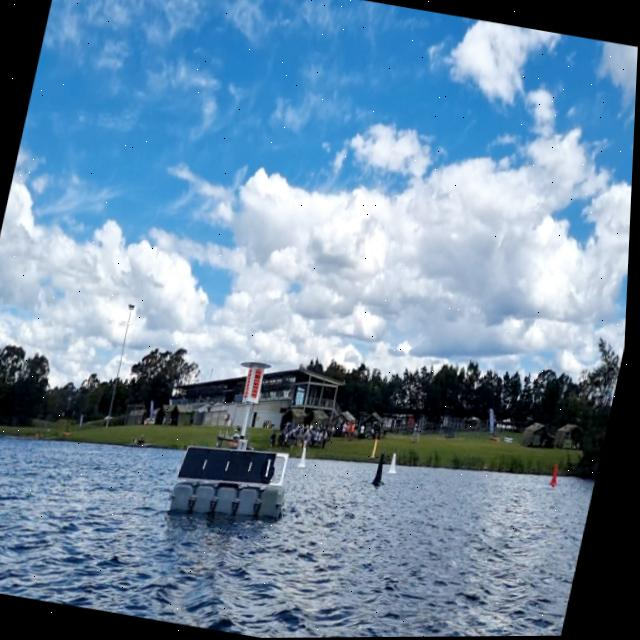led: (250, 366, 268, 401), (246, 368, 257, 399)
